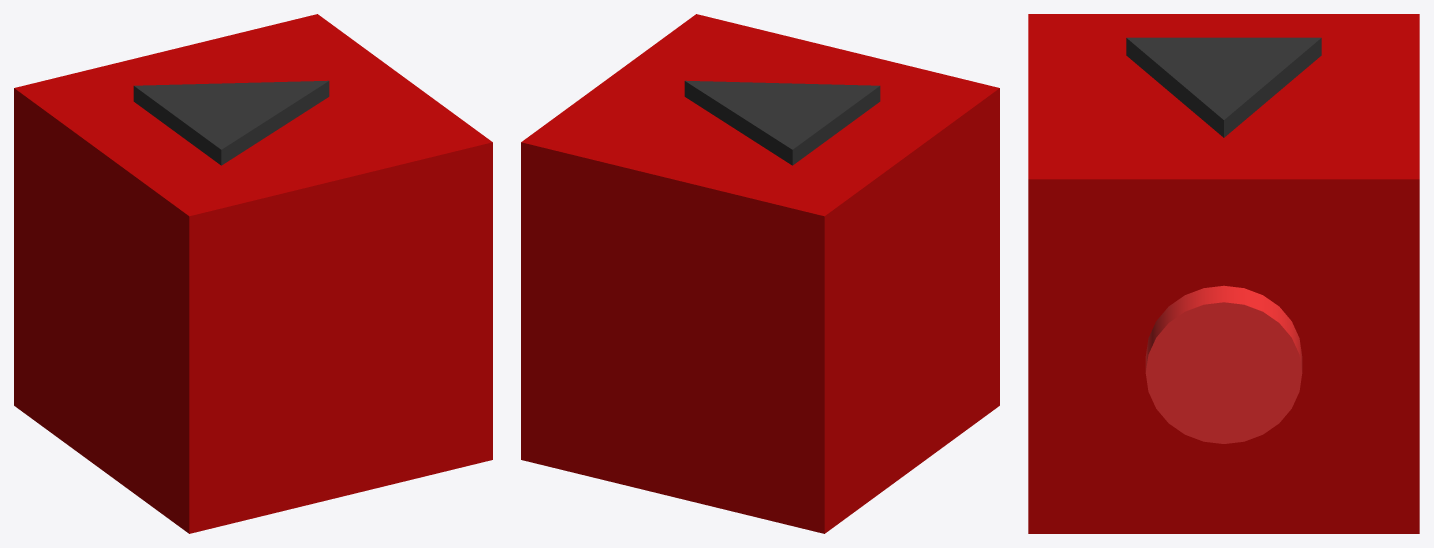
File: Start.dae
3 renders of one model, left to right at view 1: azimuth 30°, elevation 25°; view 2: azimuth 150°, elevation 25°; view 3: azimuth 270°, elevation 25°, orthographic. The views are drawn at different scales.
Visible parts, largest first — view 1: SketchUp (×2); view 2: SketchUp (×2); view 3: SketchUp (×3).
Part boxes in pixels (x1=…): SketchUp (×2): x1=14, y1=14, x2=492, y2=533; SketchUp (×2): x1=521, y1=14, x2=999, y2=533; SketchUp (×3): x1=1028, y1=14, x2=1419, y2=533.
Size of the model in its own units: 43.31 by 39.37 by 41.34.
